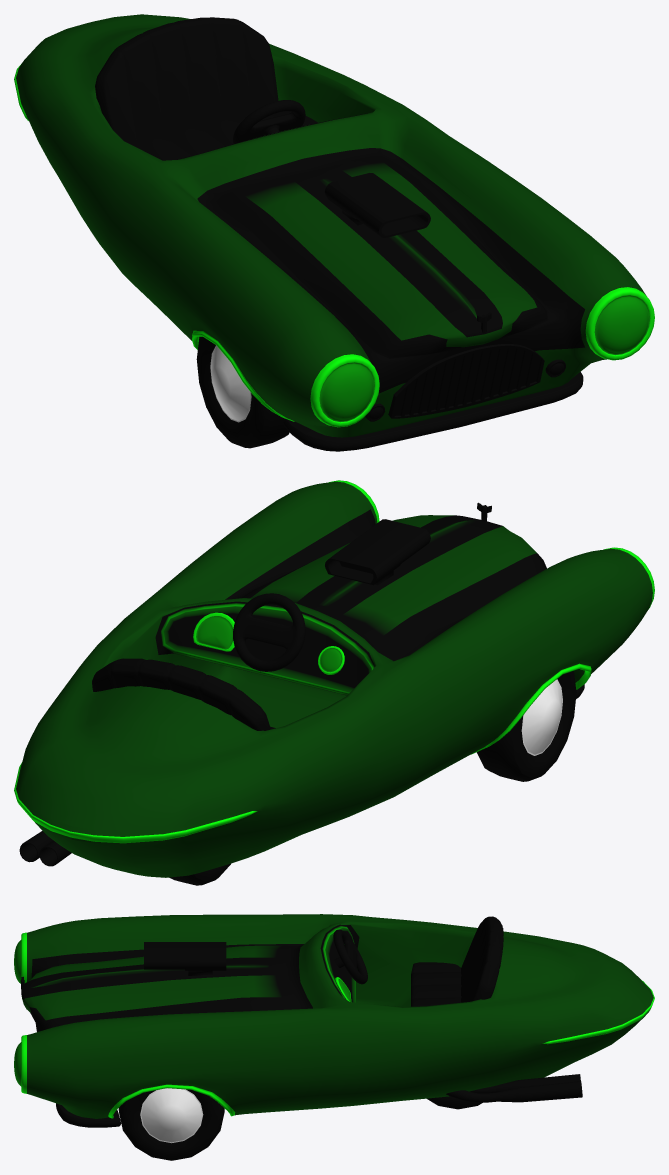
File: vehicle_tricyclepimpmobile.fbx
The picture shows the model from 3 angles, top to bottom: view 1: azimuth 30°, elevation 25°; view 2: azimuth 150°, elevation 25°; view 3: azimuth 270°, elevation 25°; orthographic projection. The views are drawn at different scales.
Parts seen in each view (by area): view 1: carbody, rt_wheel, steeringwheel; view 2: carbody, rt_wheel, steeringwheel; view 3: carbody, lf_wheel, steeringwheel, cn_wheel.
Part boxes in pixels (x1=…): carbody: x1=14, y1=14, x2=654, y2=451; rt_wheel: x1=196, y1=336, x2=289, y2=448; steeringwheel: x1=233, y1=100, x2=305, y2=143; carbody: x1=14, y1=480, x2=654, y2=877; rt_wheel: x1=476, y1=671, x2=576, y2=781; steeringwheel: x1=233, y1=593, x2=305, y2=671; carbody: x1=14, y1=914, x2=654, y2=1127; lf_wheel: x1=118, y1=1088, x2=224, y2=1160; steeringwheel: x1=333, y1=929, x2=367, y2=984; cn_wheel: x1=427, y1=1096, x2=482, y2=1109.
Size of the model in its own units: 160 by 98.91 by 329.
